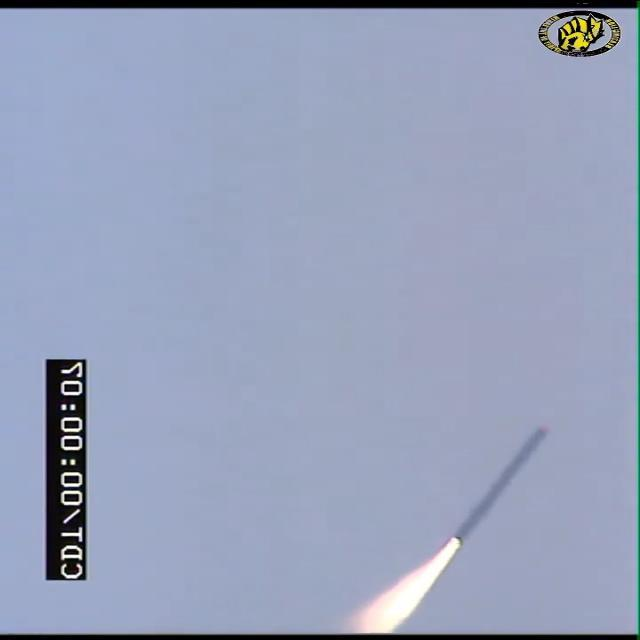Missile: (426, 420, 558, 550)
